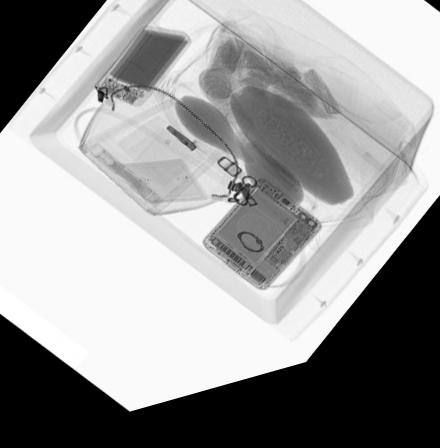Powerbank: (86, 30, 193, 116)
